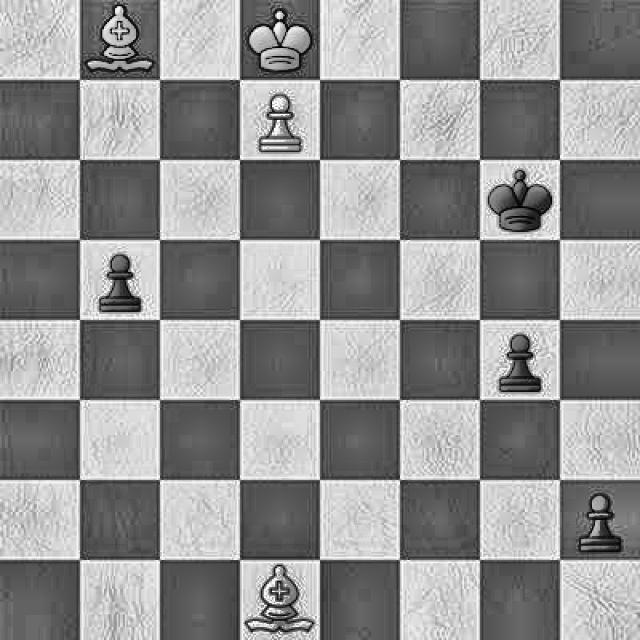black king: (480, 159, 554, 233)
black pawn: (569, 480, 629, 557), (89, 246, 153, 315), (494, 324, 544, 396)
white bishop: (84, 1, 154, 77), (248, 571, 313, 633)
white king: (246, 1, 316, 74)
white pawn: (248, 88, 308, 156)
